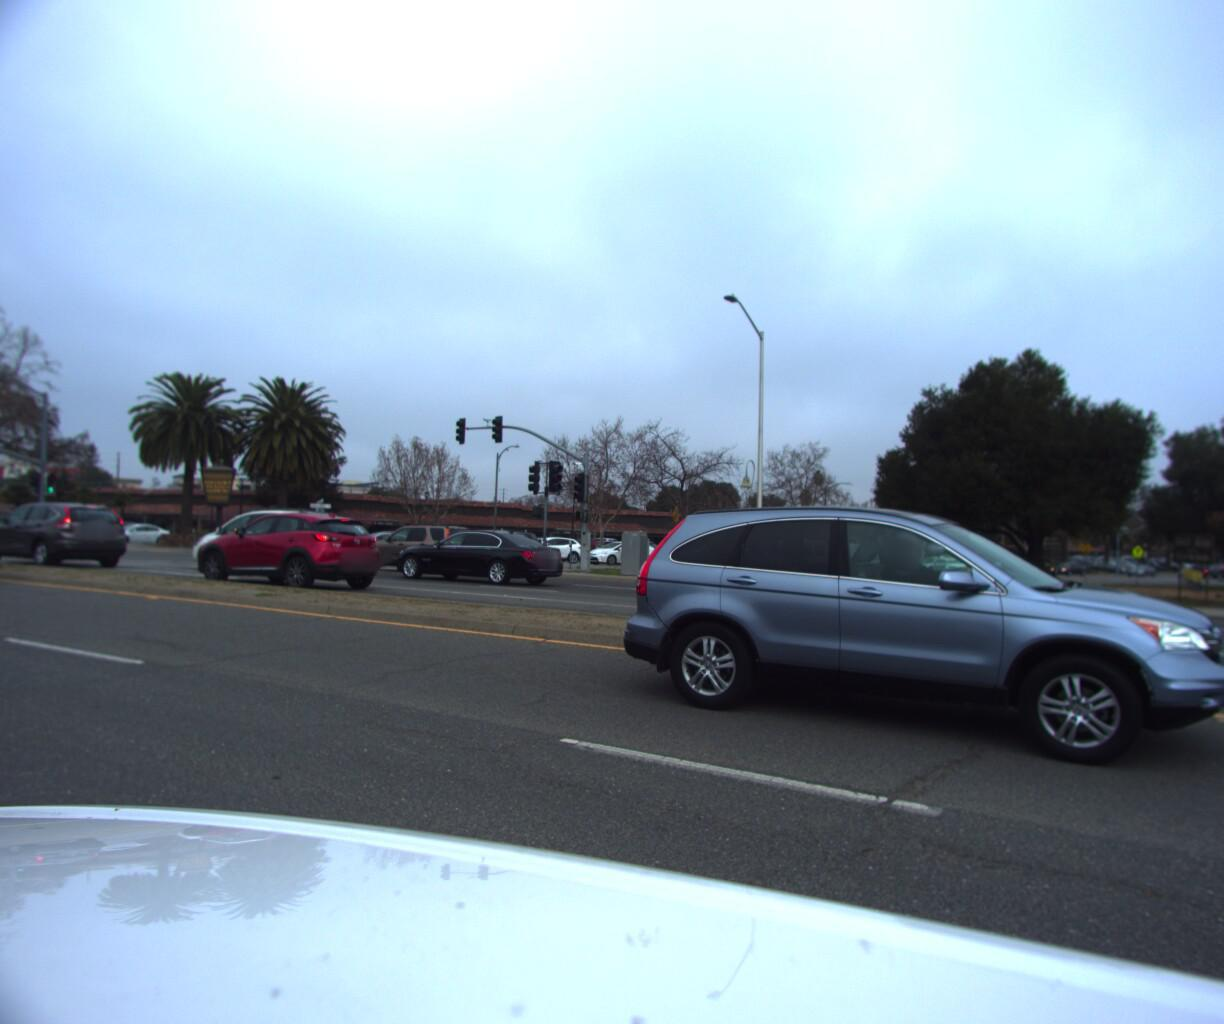car: (603, 499, 1224, 782), (188, 513, 395, 597), (179, 513, 361, 578), (383, 526, 570, 585), (342, 521, 489, 574), (577, 537, 661, 565), (501, 536, 588, 563), (91, 523, 177, 550)
